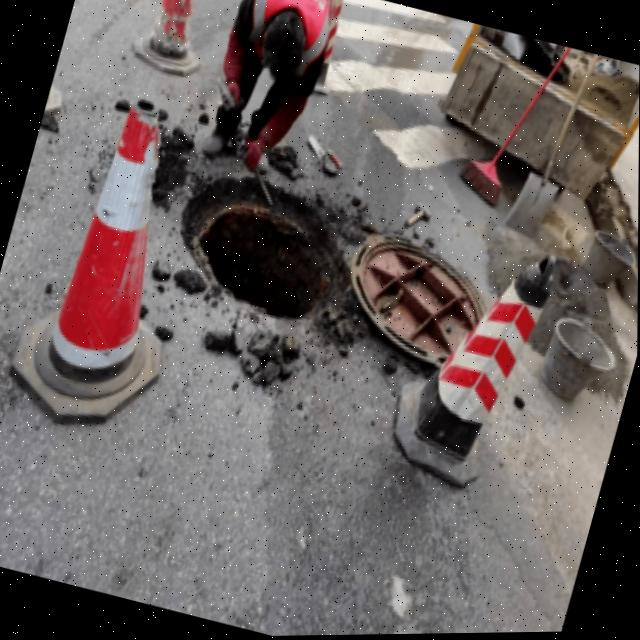manhole: (161, 145, 373, 341)
